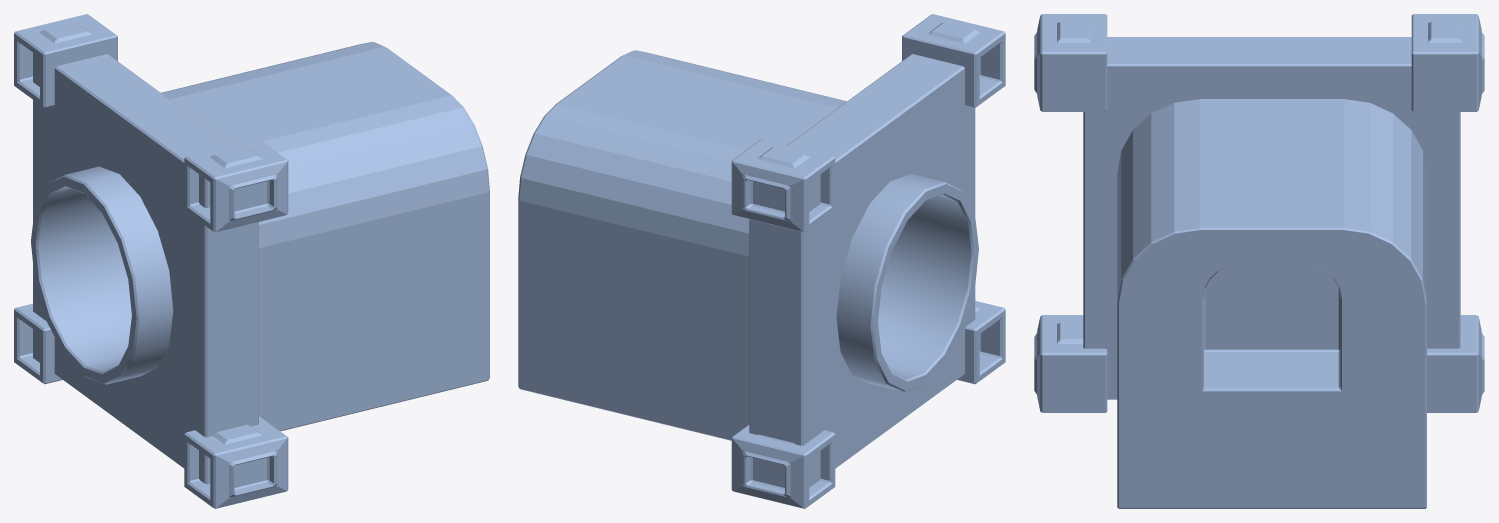
File: pipe.fbx
The picture shows the model from 3 angles, left to right: view 1: azimuth 30°, elevation 25°; view 2: azimuth 150°, elevation 25°; view 3: azimuth 270°, elevation 25°; orthographic projection. The views are drawn at different scales.
Visible parts, largest first — view 1: Pipe; view 2: Pipe; view 3: Pipe.
Part boxes in pixels (x1,y1,x2,y2): Pipe: (14,14,489,508); Pipe: (518,14,1005,508); Pipe: (1034,14,1484,508).
Bounding box in the file's own units: 389 × 369 × 414.
